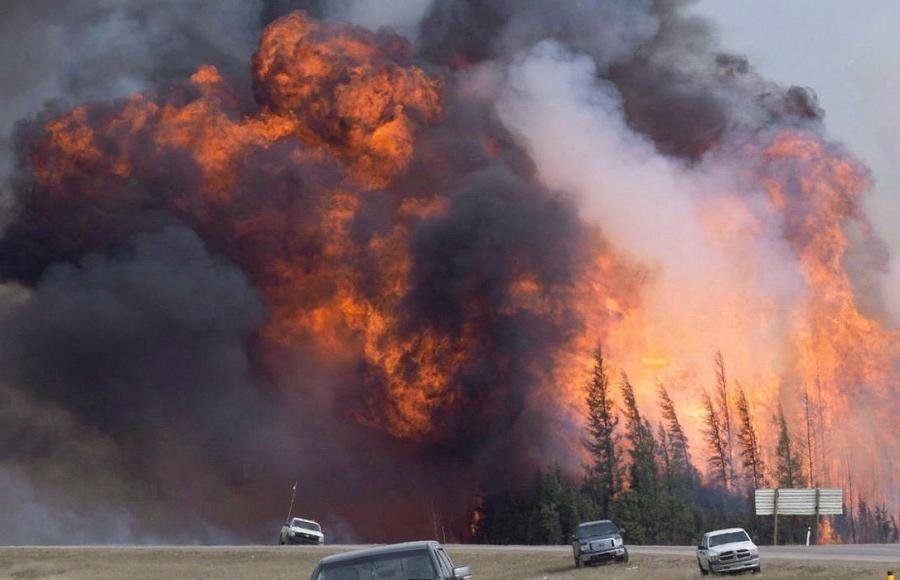Fire: (36, 28, 461, 438), (522, 145, 879, 525)
